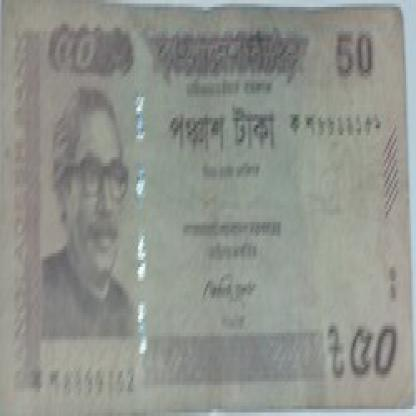Fifty taka: (45, 21, 101, 100), (339, 315, 396, 392)
